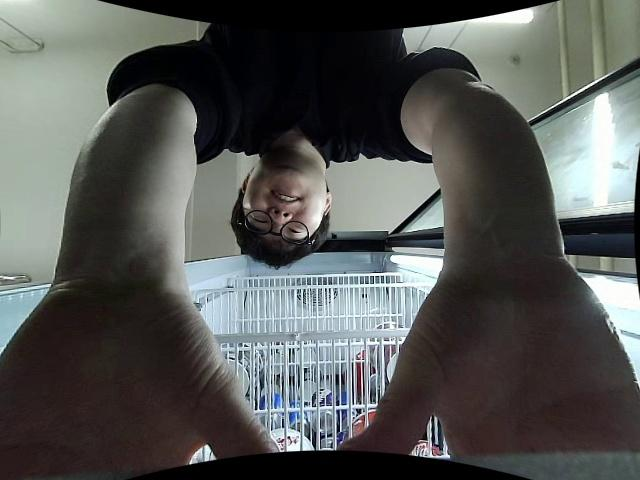00_hand: (337, 272, 640, 453), (0, 291, 281, 480)
